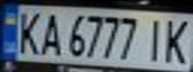6: (63, 10, 87, 57)
7: (81, 11, 106, 58), (100, 12, 124, 60), (118, 14, 142, 61)
A: (36, 9, 66, 56)
I: (139, 15, 169, 63)
K: (157, 16, 193, 65), (12, 8, 45, 55)
